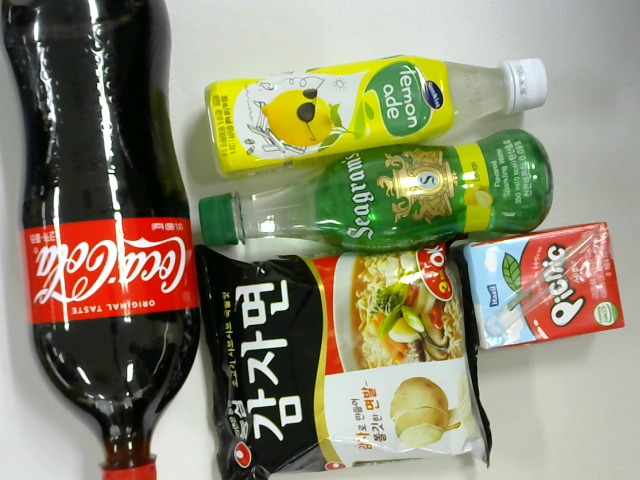Coca_Cola_1.5L: (3, 4, 201, 480)
Picnic_Apple: (455, 224, 631, 362)
Potato: (195, 246, 491, 476)
Seagram_Lemon_Carbonated_Water: (197, 152, 551, 244)
Sunkist_Lemonaid_Pet: (199, 54, 555, 144)
